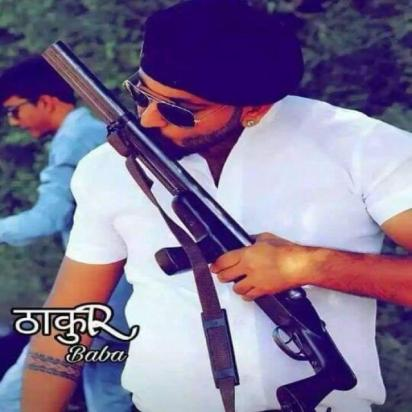Gun: (37, 39, 362, 411)
